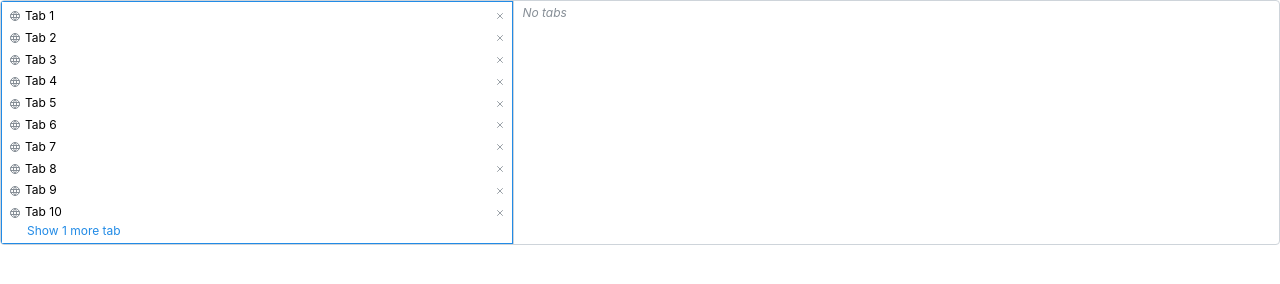
Test case: PaneDiagram › forgets expansion when remounted
Click the button "Show 1 more tab" at [74, 230], box [5,223,509,240]
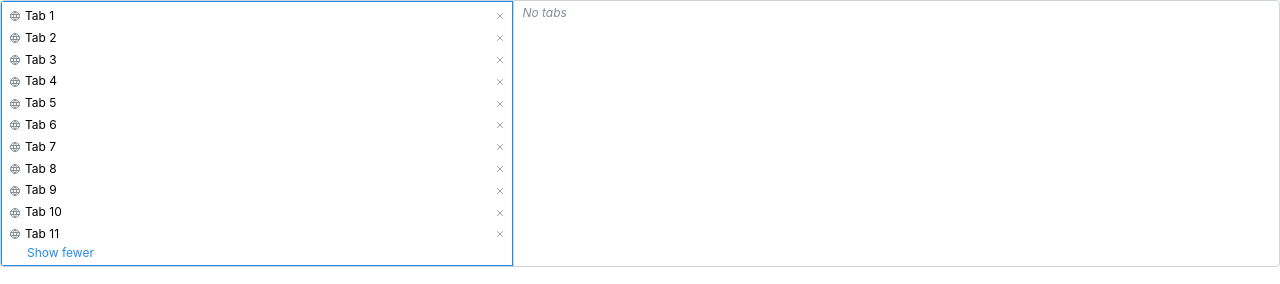
Now the text "Tab 11" is shown, box [25,226,59,243]
